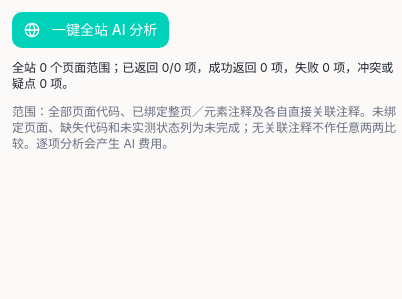
Test: one click processes all page roots and leaves unbound pages red without extra AI calls
Click the button "一键全站 AI 分析" at (91, 30), box [12,12,169,48]
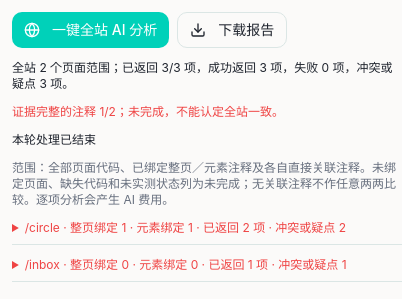
Expected: the text "全站 2 个页面范围；已返回 3/3 项，成功返回 3 项，失败 0 项，冲突或疑点 3 项。" is shown, [12,60,401,92]
